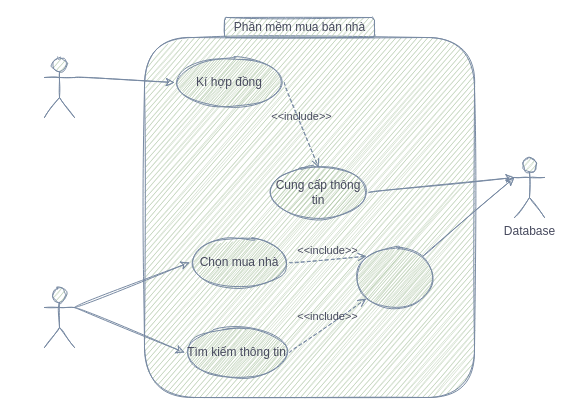
The diagram is 572 pixels wide and 415 high, and some of its shapes have lost their labels. The shapes that lost their labels are listed below. From the top down, each one's centre as x and y in pixels, then its label:
[59,87]: Người bán nhà
[394,277]: Thông tin
[59,317]: Người mua nhà
